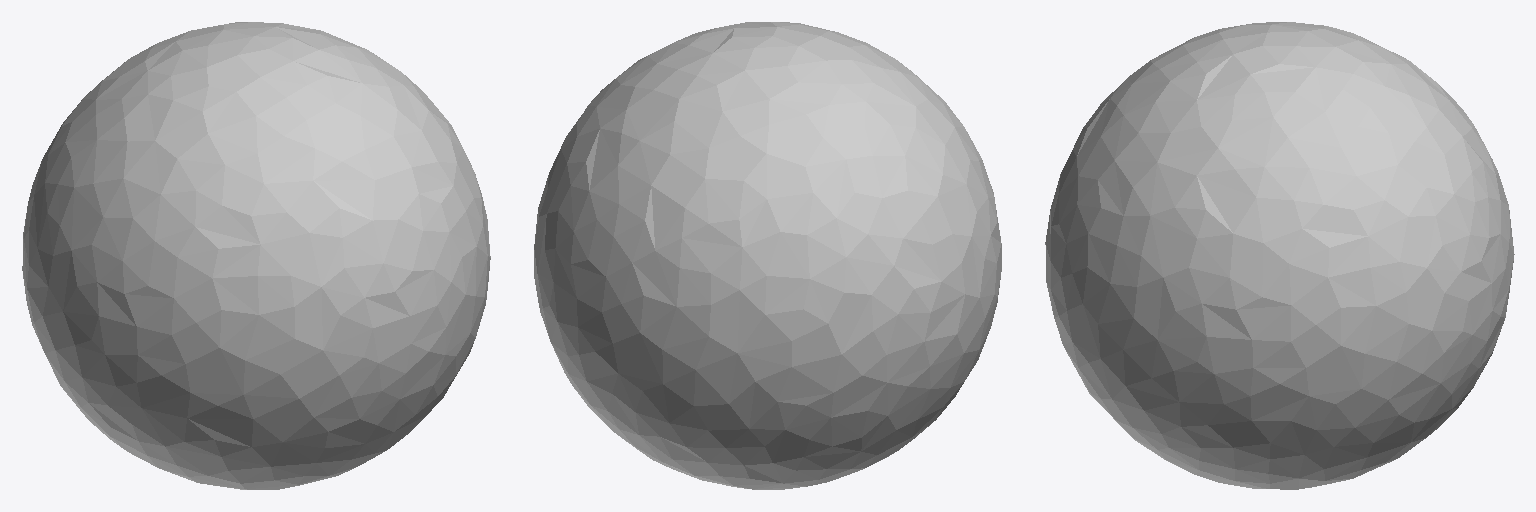
3 renders of one model, left to right at view 1: azimuth 30°, elevation 25°; view 2: azimuth 150°, elevation 25°; view 3: azimuth 270°, elevation 25°, orthographic.
Visible parts, largest first — view 1: Golf_Ball; view 2: Golf_Ball; view 3: Golf_Ball.
Part boxes in pixels (left/top/right/bottom): Golf_Ball: left=22, top=22, right=490, bottom=489; Golf_Ball: left=534, top=22, right=1001, bottom=489; Golf_Ball: left=1045, top=22, right=1514, bottom=489.
Size of the model in its own units: 0.0913 by 0.0915 by 0.0916.